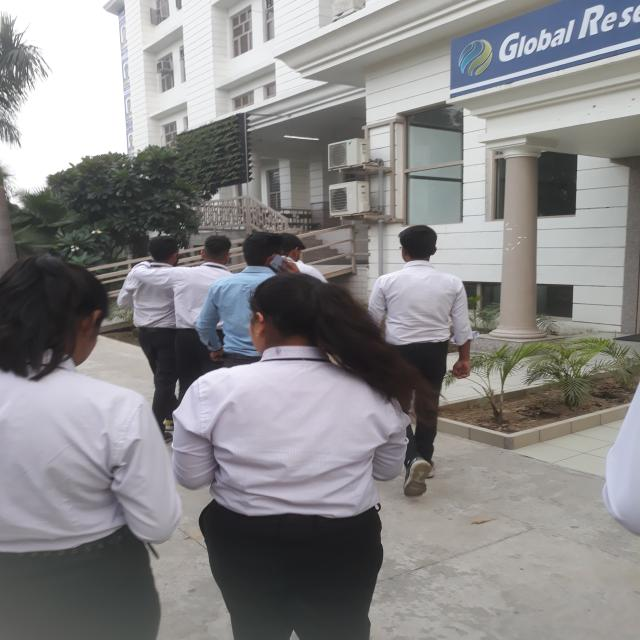unsafe: (174, 271, 418, 640), (0, 249, 184, 640), (367, 224, 474, 496), (122, 237, 194, 436), (200, 232, 296, 371), (158, 236, 233, 401)
